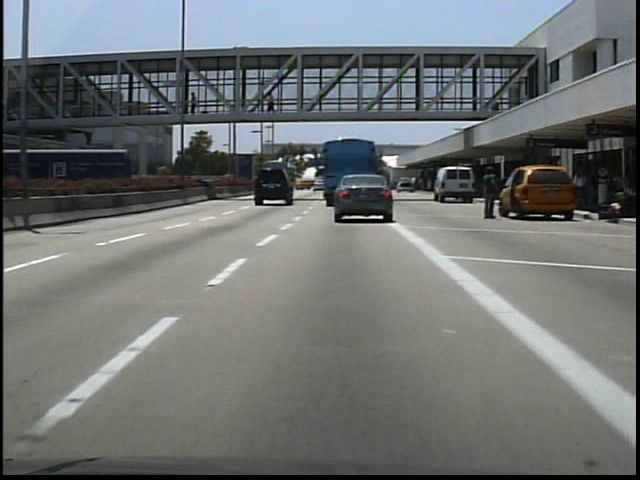person: (478, 163, 503, 223), (265, 90, 280, 120), (187, 90, 202, 117)
